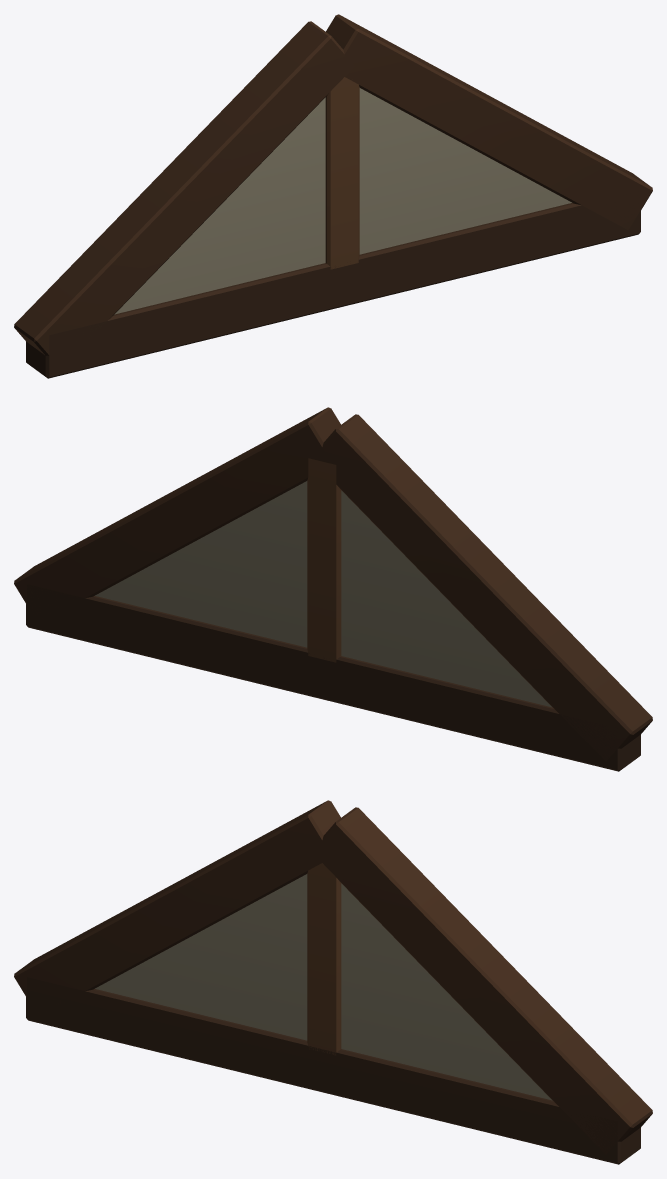
The model's file is piece_woodgable_tri.glb.
3 renders of one model, top to bottom at view 1: azimuth 30°, elevation 25°; view 2: azimuth 150°, elevation 25°; view 3: azimuth 330°, elevation 25°, orthographic.
Parts seen in each view (by area): view 1: Base; view 2: Base; view 3: Base.
Boxes of the visible parts, box(x1,y1,x2,y2) form: Base: box(14, 14, 652, 378); Base: box(14, 407, 652, 771); Base: box(14, 800, 652, 1164).
Size of the model in its own units: 4.16 by 1.76 by 0.26.
